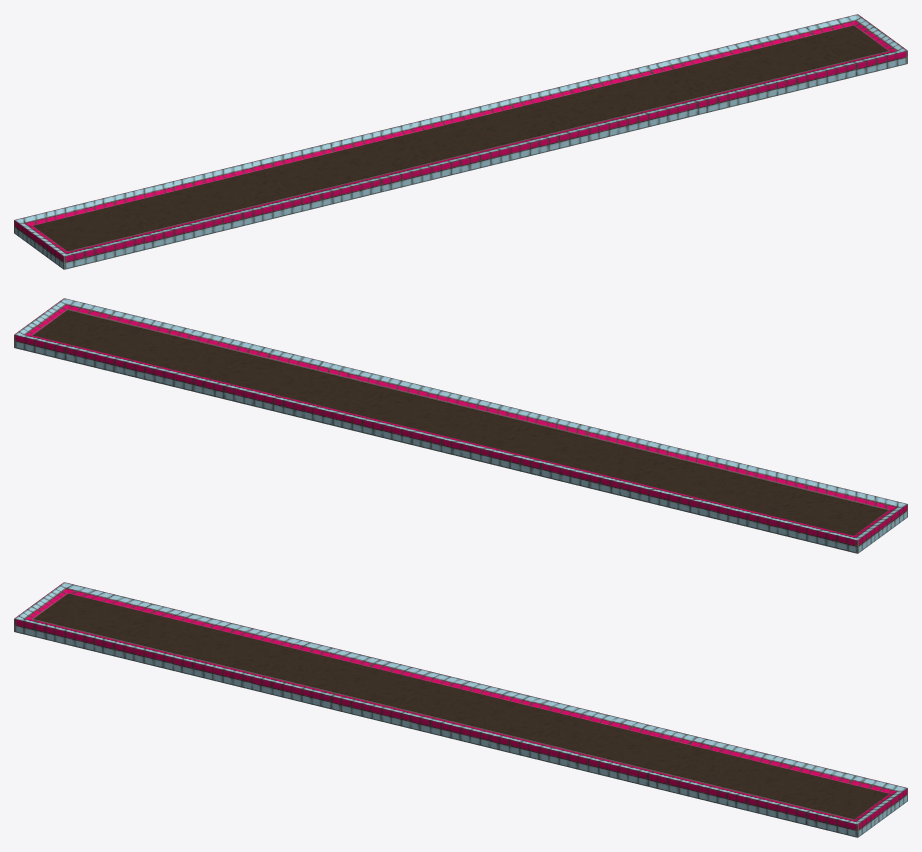
Rendered from street_restaurant_flowerbedlong.FBX.
3 views of the same model, one above another, from view 1: azimuth 30°, elevation 25°; view 2: azimuth 150°, elevation 25°; view 3: azimuth 330°, elevation 25° (orthographic).
Parts seen in each view (by area): view 1: street_restaurant_flowerbedlong; view 2: street_restaurant_flowerbedlong; view 3: street_restaurant_flowerbedlong.
Part boxes in pixels (bbox=[...]): street_restaurant_flowerbedlong: bbox=[14, 14, 907, 269]; street_restaurant_flowerbedlong: bbox=[14, 298, 907, 553]; street_restaurant_flowerbedlong: bbox=[14, 582, 907, 837].
Bounding box in the file's own units: 887 × 13.39 × 91.09.
